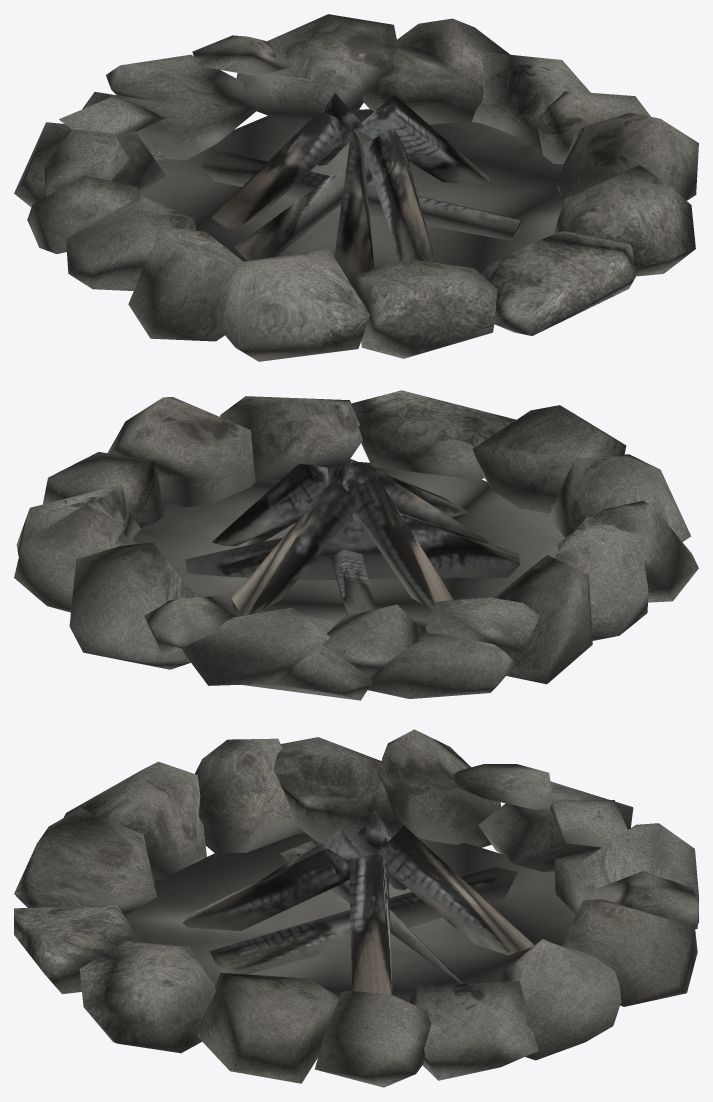
The model's file is WoodAshes.fbx.
3 renders of one model, top to bottom at view 1: azimuth 30°, elevation 25°; view 2: azimuth 150°, elevation 25°; view 3: azimuth 270°, elevation 25°, orthographic. The views are drawn at different scales.
Visible parts, largest first — view 1: Mesh_0; view 2: Mesh_0; view 3: Mesh_0.
Part boxes in pixels (x1,y1,x2,y2): Mesh_0: (14, 14, 698, 361); Mesh_0: (14, 390, 698, 700); Mesh_0: (14, 729, 698, 1087).
Size of the model in its own units: 100 by 21.19 by 100.
Materials: 1 (1 with a texture image).
